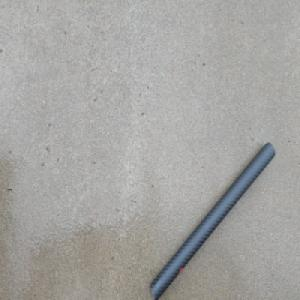LuggagePart: (149, 139, 279, 296)
